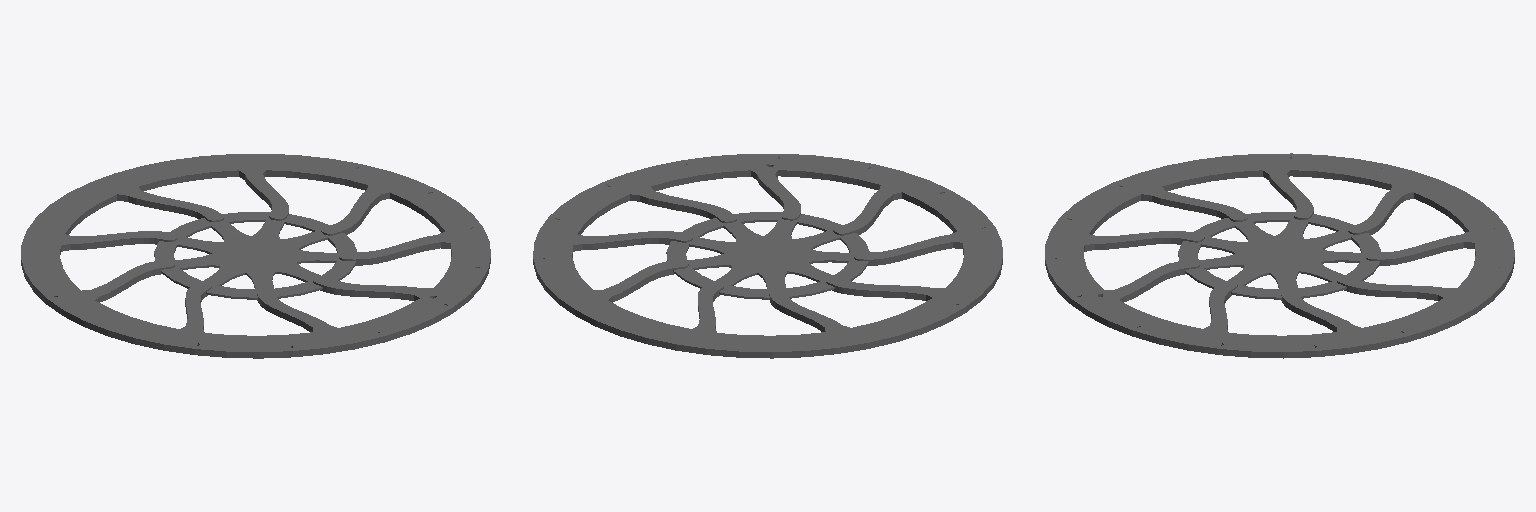
The model's file is Brake_Disc.obj.
3 renders of one model, left to right at view 1: azimuth 30°, elevation 25°; view 2: azimuth 150°, elevation 25°; view 3: azimuth 270°, elevation 25°, orthographic.
Parts seen in each view (by area): view 1: Tube01, Tube02; view 2: Tube01, Tube02; view 3: Tube01, Tube02.
Boxes of the visible parts, <box> form: Tube01: <box>21,154,490,358</box>; Tube02: <box>154,212,356,299</box>; Tube01: <box>533,154,1002,358</box>; Tube02: <box>666,212,869,299</box>; Tube01: <box>1045,153,1514,358</box>; Tube02: <box>1178,212,1380,299</box>.
Bounding box in the file's own units: 30.58 × 0.4528 × 30.58.